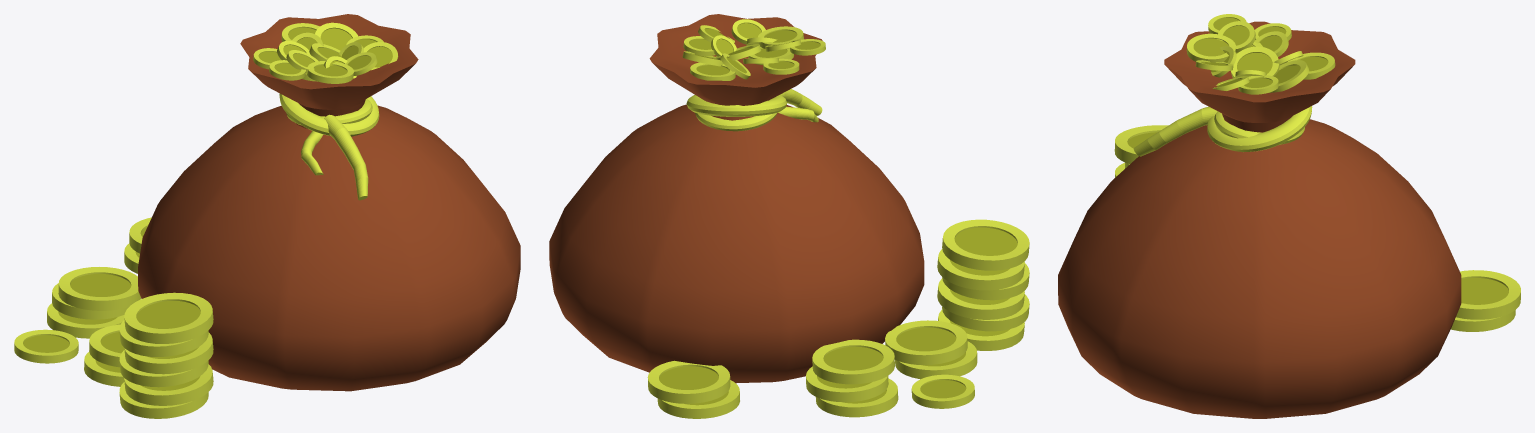
Rendered from MoneyBag.fbx.
3 views of the same model, side by side, from view 1: azimuth 30°, elevation 25°; view 2: azimuth 150°, elevation 25°; view 3: azimuth 270°, elevation 25° (orthographic). The views are drawn at different scales.
Visible parts, largest first — view 1: MoneyBag; view 2: MoneyBag; view 3: MoneyBag.
Part boxes in pixels (x1,y1,x2,y2): MoneyBag: (14, 14, 520, 418); MoneyBag: (549, 14, 1029, 418); MoneyBag: (1058, 14, 1520, 418).
Bounding box in the file's own units: 1.24 × 0.8313 × 1.07.
